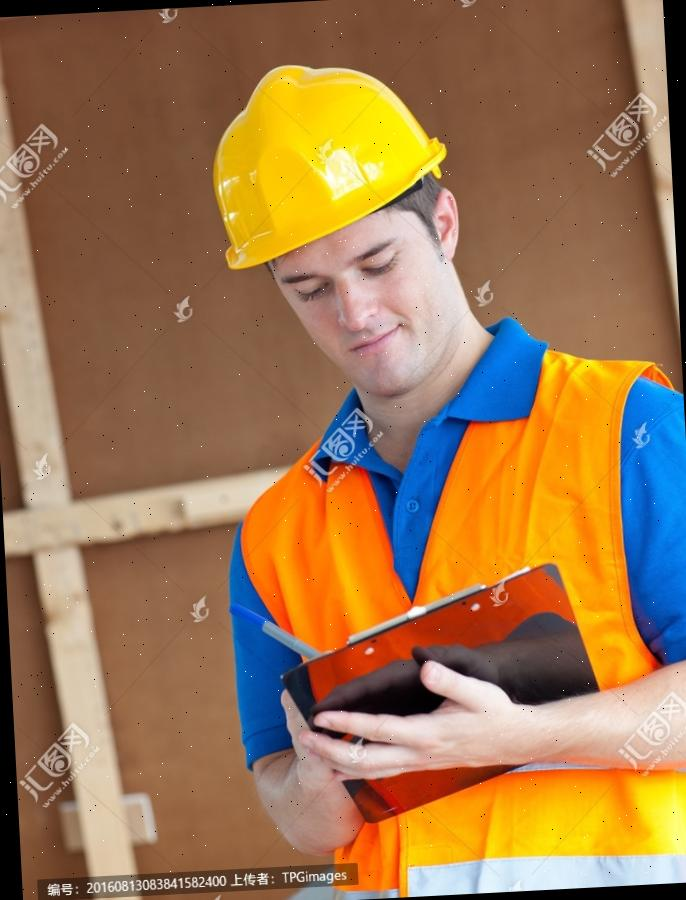helmet: (183, 39, 467, 281)
wear: (230, 370, 686, 900)
